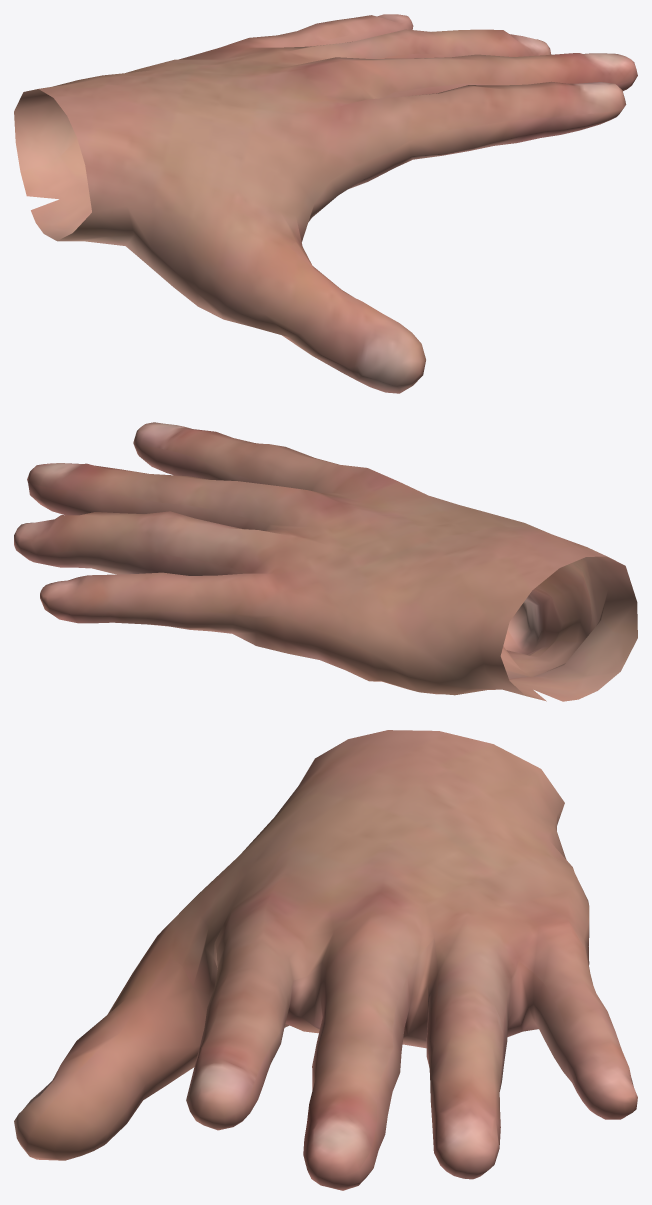
Rendered from Old Man Main Character Left Hand.fbx.
The picture shows the model from 3 angles, top to bottom: view 1: azimuth 30°, elevation 25°; view 2: azimuth 150°, elevation 25°; view 3: azimuth 270°, elevation 25°; orthographic projection. The views are drawn at different scales.
Visible parts, largest first — view 1: AvatarBody.LeftHand; view 2: AvatarBody.LeftHand; view 3: AvatarBody.LeftHand.
Boxes of the visible parts, x1,y1,x2,y2 form: AvatarBody.LeftHand: (14,14,637,393); AvatarBody.LeftHand: (14,422,637,701); AvatarBody.LeftHand: (14,730,637,1190).
Bounding box in the file's own units: 20.6 × 8.03 × 14.84.
